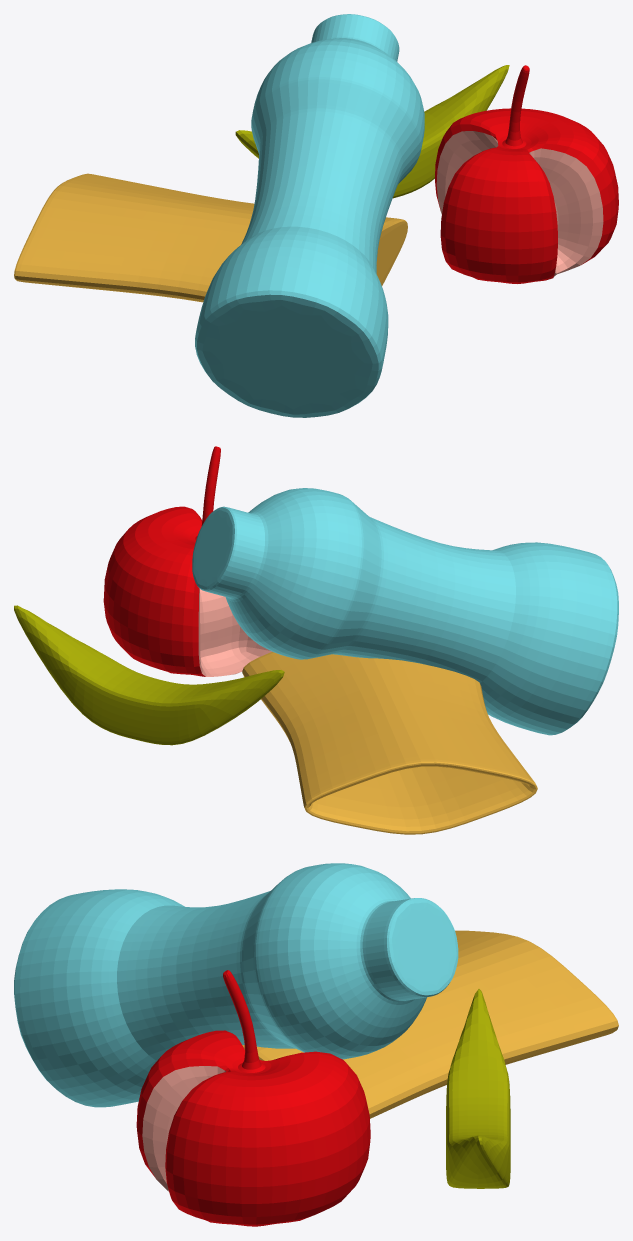
Rendered from LIXOSJoin.fbx.
3 renders of one model, top to bottom at view 1: azimuth 30°, elevation 25°; view 2: azimuth 150°, elevation 25°; view 3: azimuth 270°, elevation 25°, orthographic. The views are drawn at different scales.
Visible parts, largest first — view 1: Circle.003; view 2: Circle.003; view 3: Circle.003.
Part boxes in pixels (left/top/right/bottom): Circle.003: left=14, top=14, right=618, bottom=417; Circle.003: left=14, top=446, right=618, bottom=834; Circle.003: left=14, top=863, right=618, bottom=1226.
Bounding box in the file's own units: 0.853 × 0.4281 × 0.7676.
